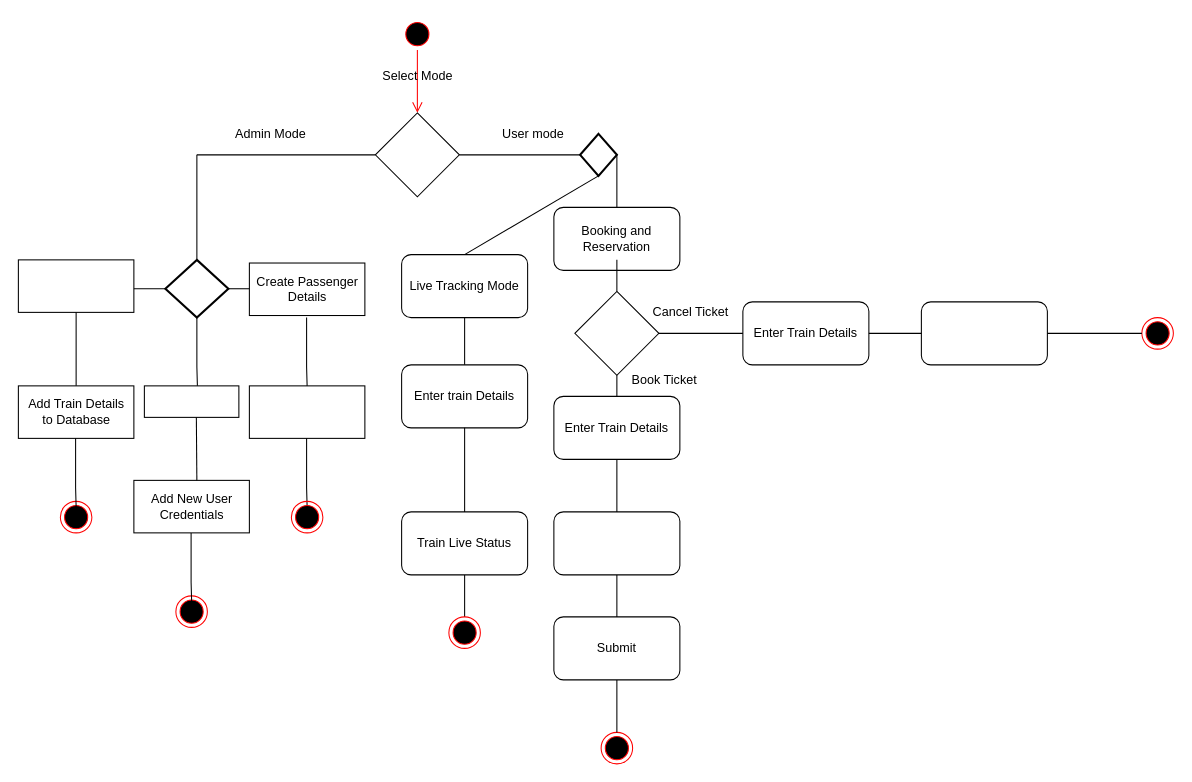
The diagram is 1192 pixels wide and 782 high, and some of its shapes have lost their labels. The centre of each missing label's shape, as x and y in pixels:
"Add Passenger Details to Database" belongs at point (306, 411).
"Cancel" belongs at point (983, 333).
"Check Availability" belongs at point (616, 543).
"Create New User" belongs at point (191, 401).
"Create Train Details" belongs at point (75, 285).
